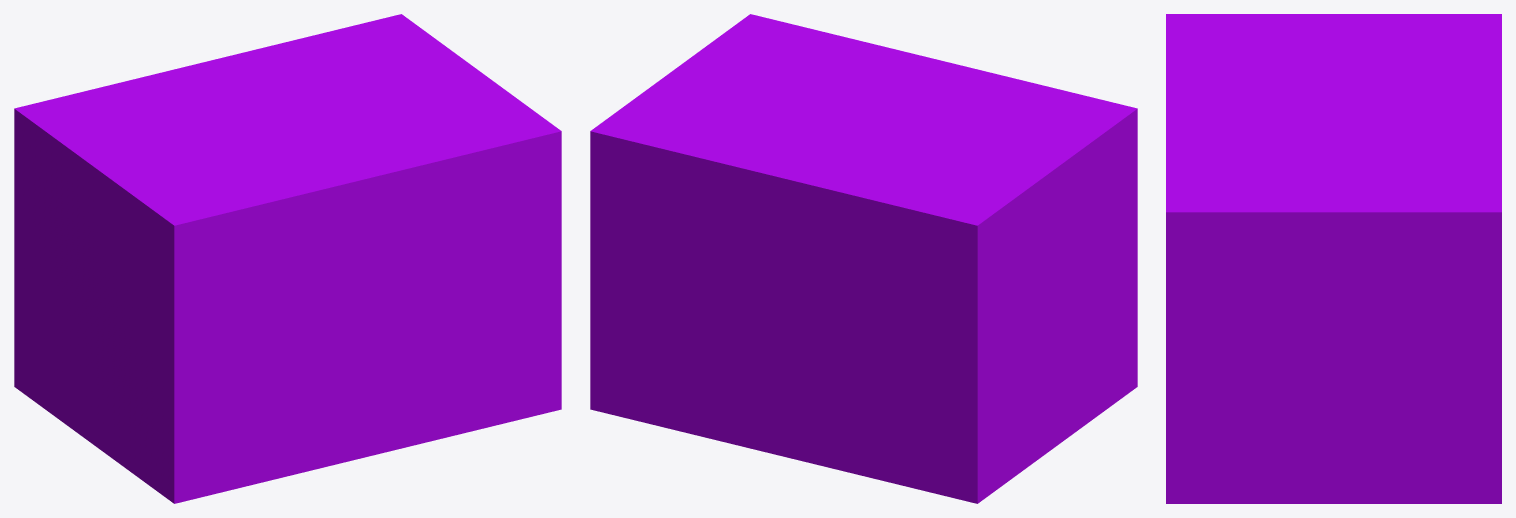
The model's file is Purple_Units.glb.
The picture shows the model from 3 angles, left to right: view 1: azimuth 30°, elevation 25°; view 2: azimuth 150°, elevation 25°; view 3: azimuth 270°, elevation 25°; orthographic projection. The views are drawn at different scales.
Visible parts, largest first — view 1: Mesh1 Model; view 2: Mesh1 Model; view 3: Mesh1 Model.
Boxes of the visible parts, x1,y1,x2,y2 form: Mesh1 Model: (14, 14, 561, 503); Mesh1 Model: (590, 14, 1137, 503); Mesh1 Model: (1166, 14, 1501, 503).
Size of the model in its own units: 779 by 535 by 558.
